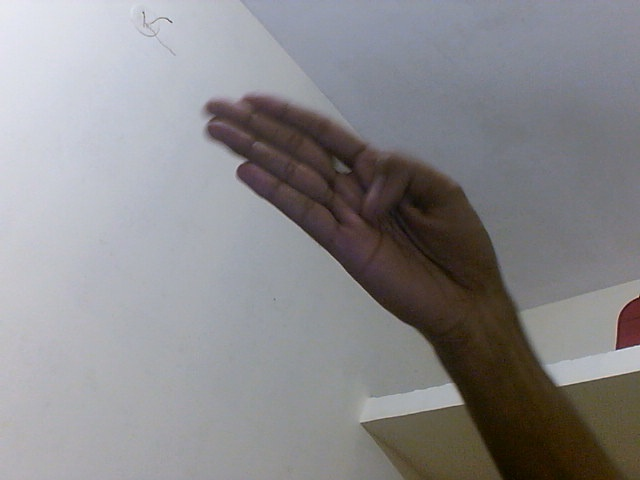hand: (200, 86, 506, 347)
